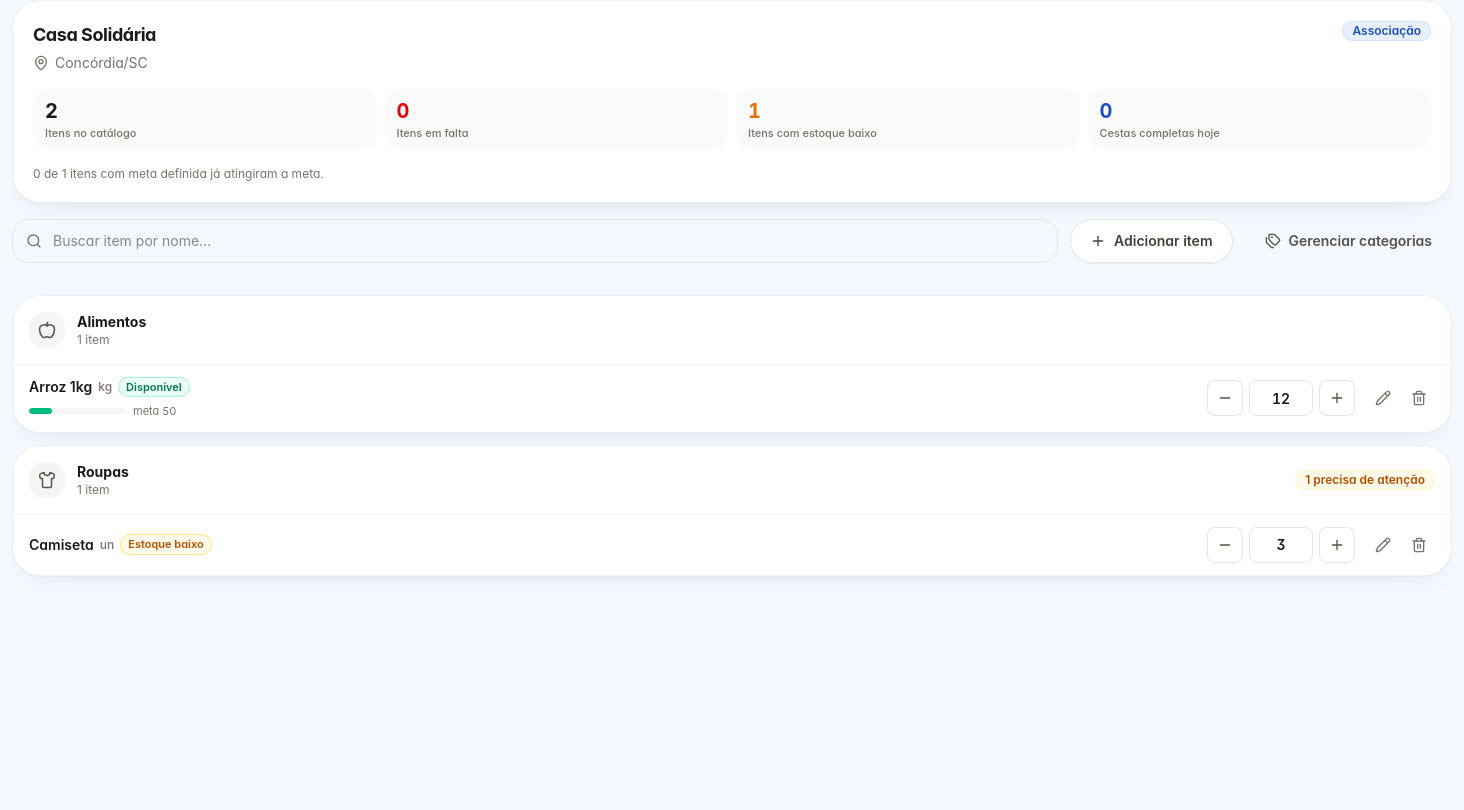
Test case: StockEditor › filtra os itens pela busca e mostra a contagem de resultados
The image size is (1464, 810).
In the search field with placeholder "Buscar item por nome…": (535, 240) [12,218,1058,262], type "camiseta"
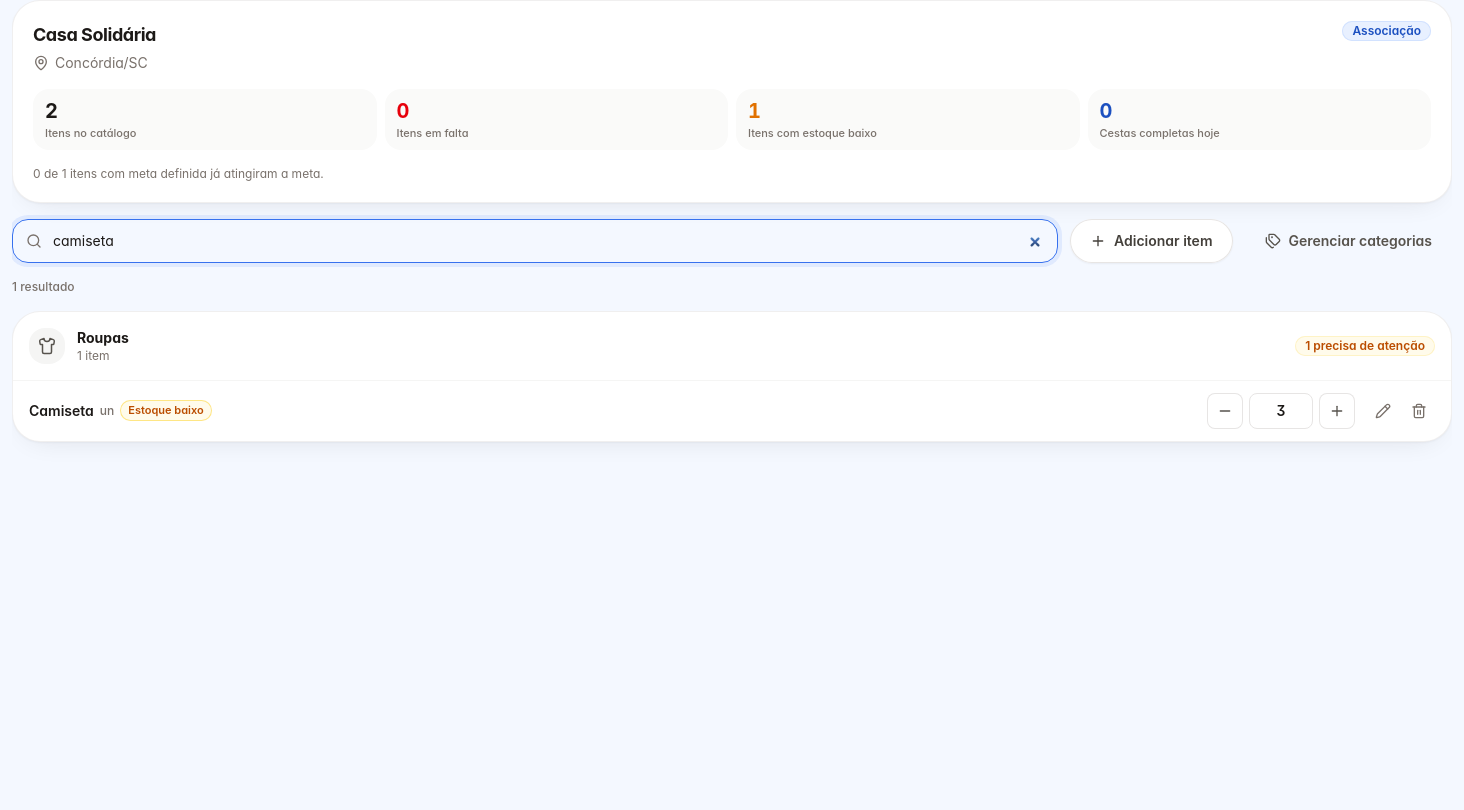
Expected: the number field named "Quantidade de Camiseta" is shown, [1249,392,1313,428]
Expected: the text "1 resultado" is shown, [12,278,75,294]
